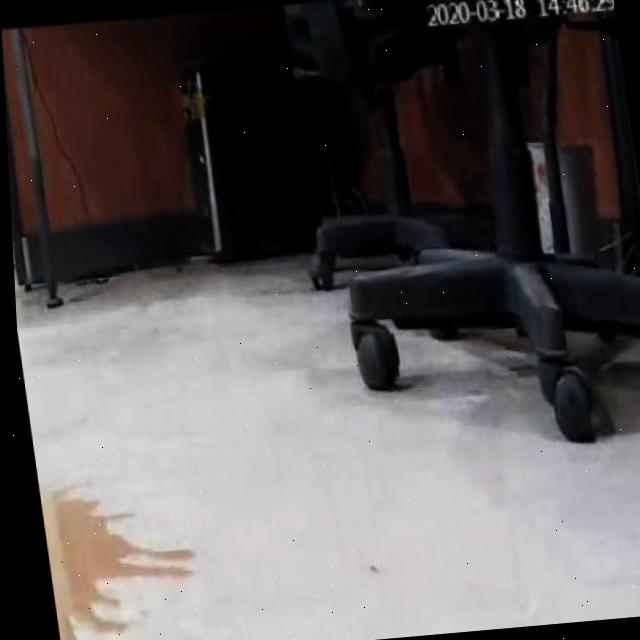spillage: (34, 492, 187, 640)
